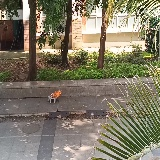fire: (50, 89, 62, 98)
